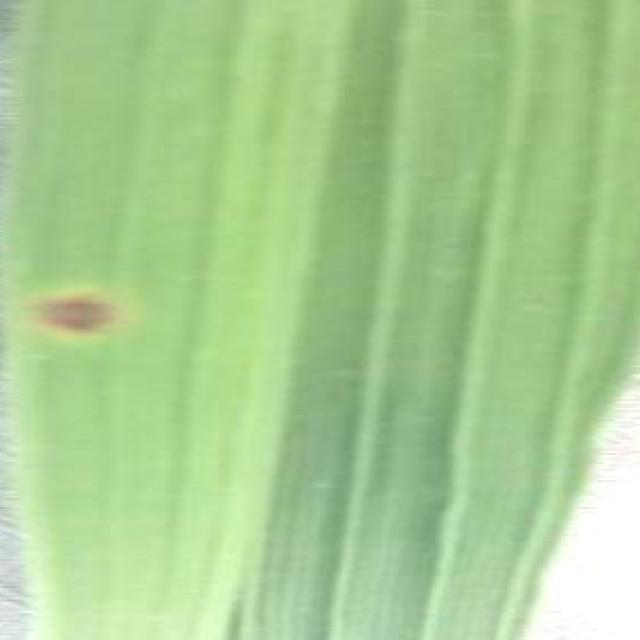Brown_Spot: (12, 264, 146, 372)
